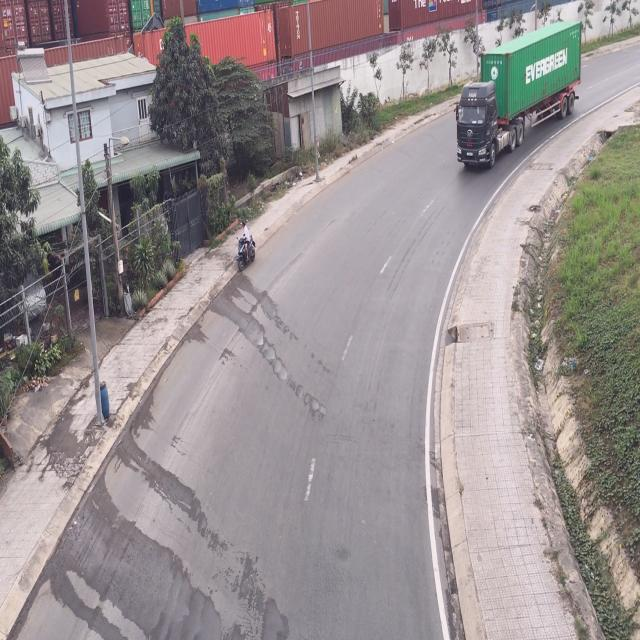motorbike: (238, 224, 257, 272)
truck: (453, 20, 580, 172)
